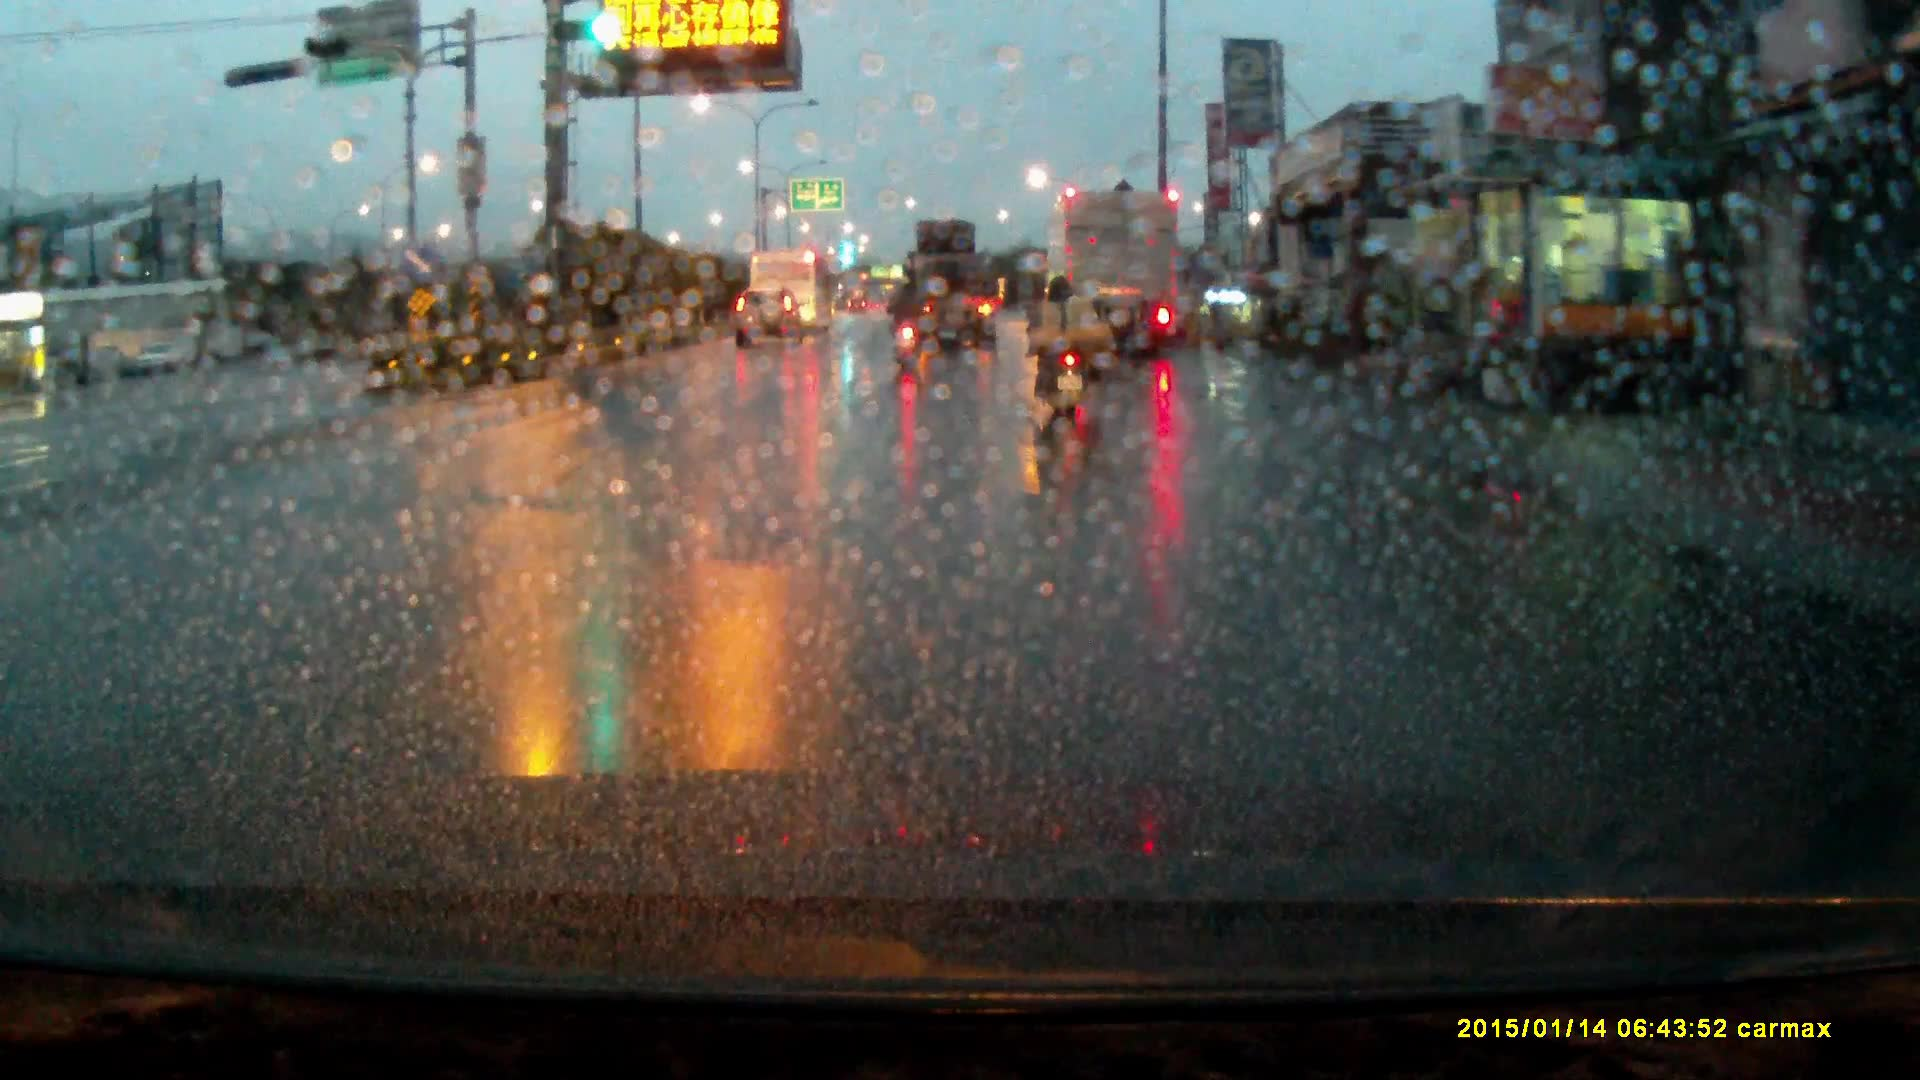rider: (1025, 269, 1105, 426), (891, 269, 930, 364)
vehicle: (1047, 195, 1184, 361), (899, 219, 1000, 354), (763, 244, 838, 327), (735, 285, 807, 351)
